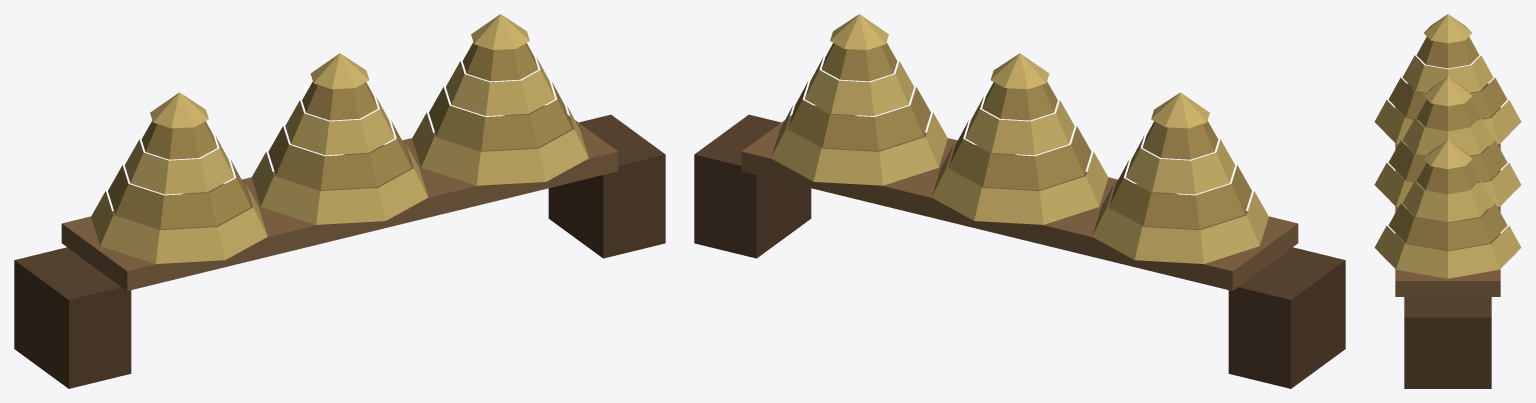
Rendered from beehives.glb.
3 renders of one model, left to right at view 1: azimuth 30°, elevation 25°; view 2: azimuth 150°, elevation 25°; view 3: azimuth 270°, elevation 25°, orthographic. The views are drawn at different scales.
Parts seen in each view (by area): view 1: beehives; view 2: beehives; view 3: beehives.
Boxes of the visible parts, box(x1,y1,x2,y2) form: beehives: box(14, 14, 665, 388); beehives: box(694, 14, 1345, 388); beehives: box(1374, 14, 1521, 388).
Size of the model in its own units: 3.16 by 1.23 by 0.84.
